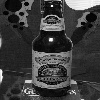beer: (31, 1, 76, 96)
